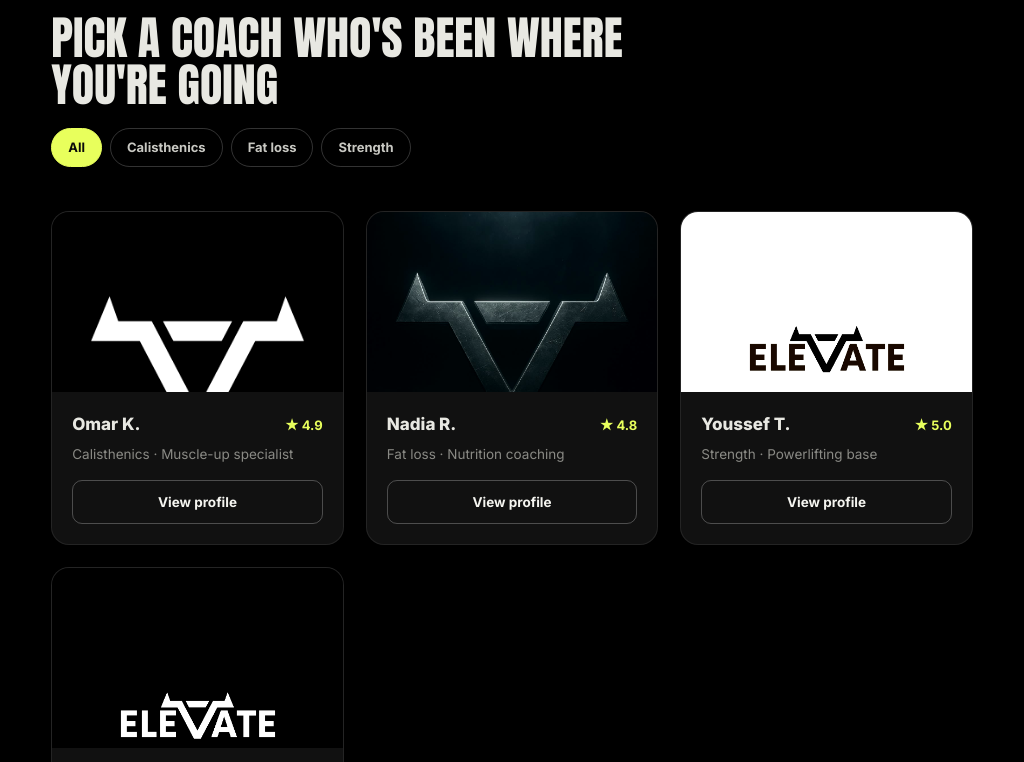
it: HomePage › opens the trainer profile modal from a card
This screenshot has width=1024, height=762.
(page scrolled)
Click the element with test id "trainer-card-nadia": {"x": 512, "y": 378} [366,211,658,545]
(page scrolled)
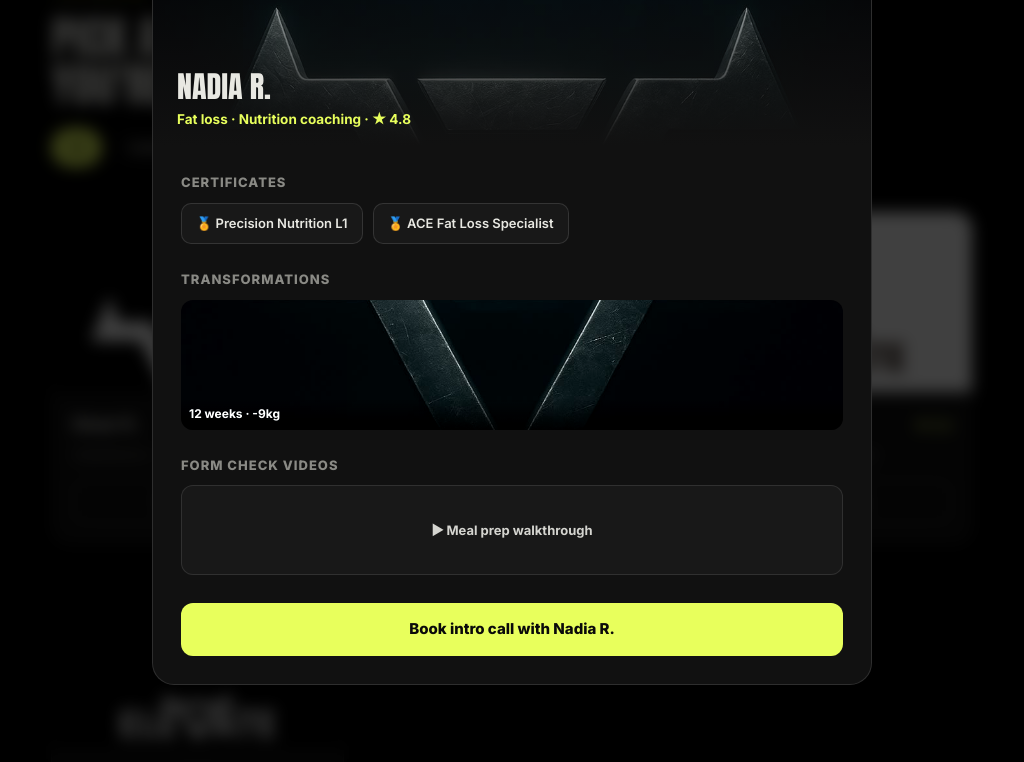
Expected: the button "Book intro call with Nadia R." is shown, [181,603,843,656]
